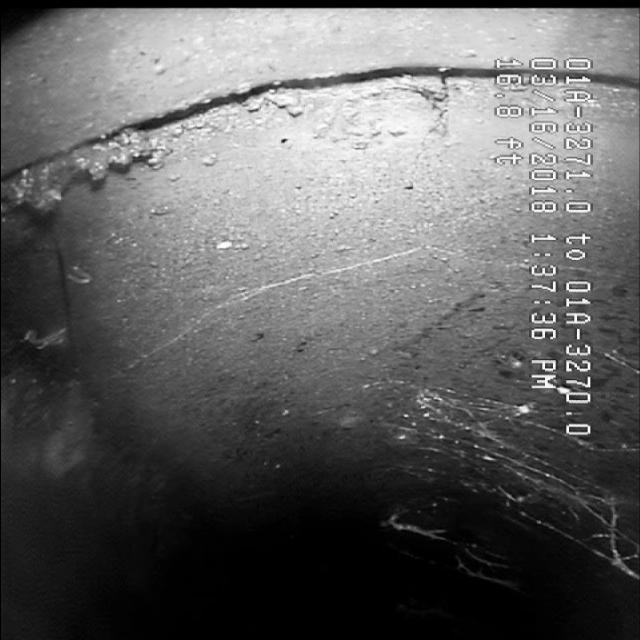Crack: (380, 39, 476, 248)
